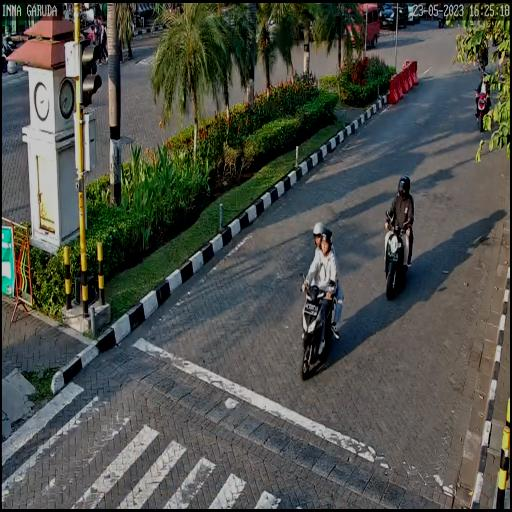motor: (295, 264, 341, 378), (384, 208, 414, 301)
